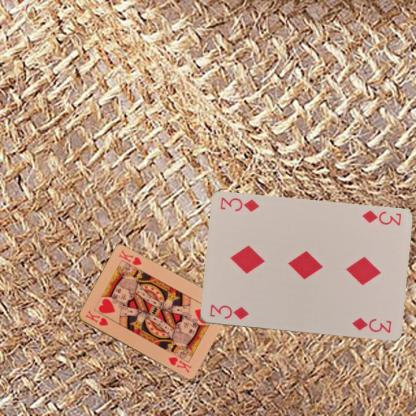3d: (360, 207, 402, 228), (207, 302, 250, 321)
Kh: (83, 308, 109, 327)
